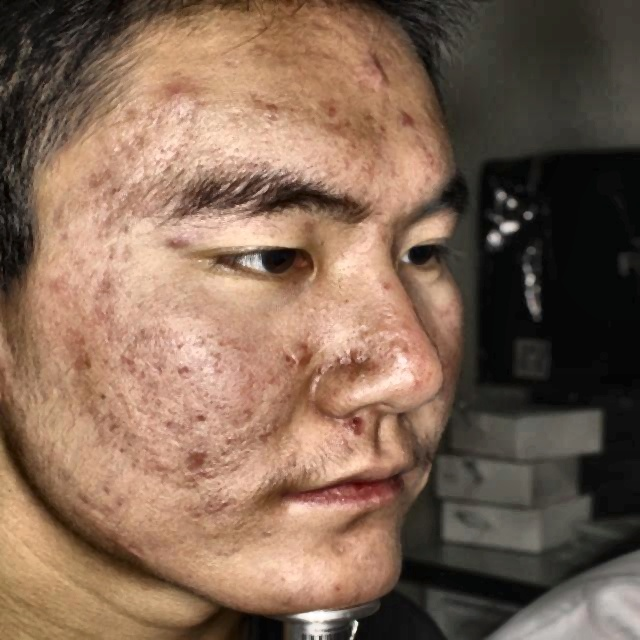pustule: (355, 46, 404, 84), (155, 82, 194, 116), (339, 416, 368, 442), (251, 99, 281, 124), (390, 103, 421, 127), (51, 275, 77, 303), (186, 440, 210, 470)
